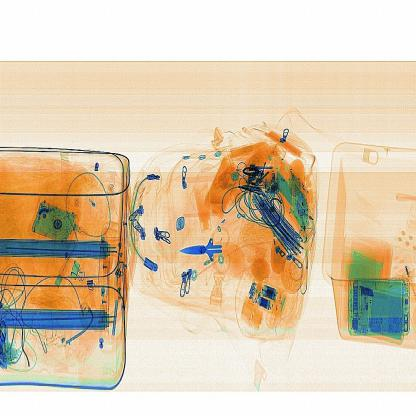gun: (175, 215, 246, 283)
